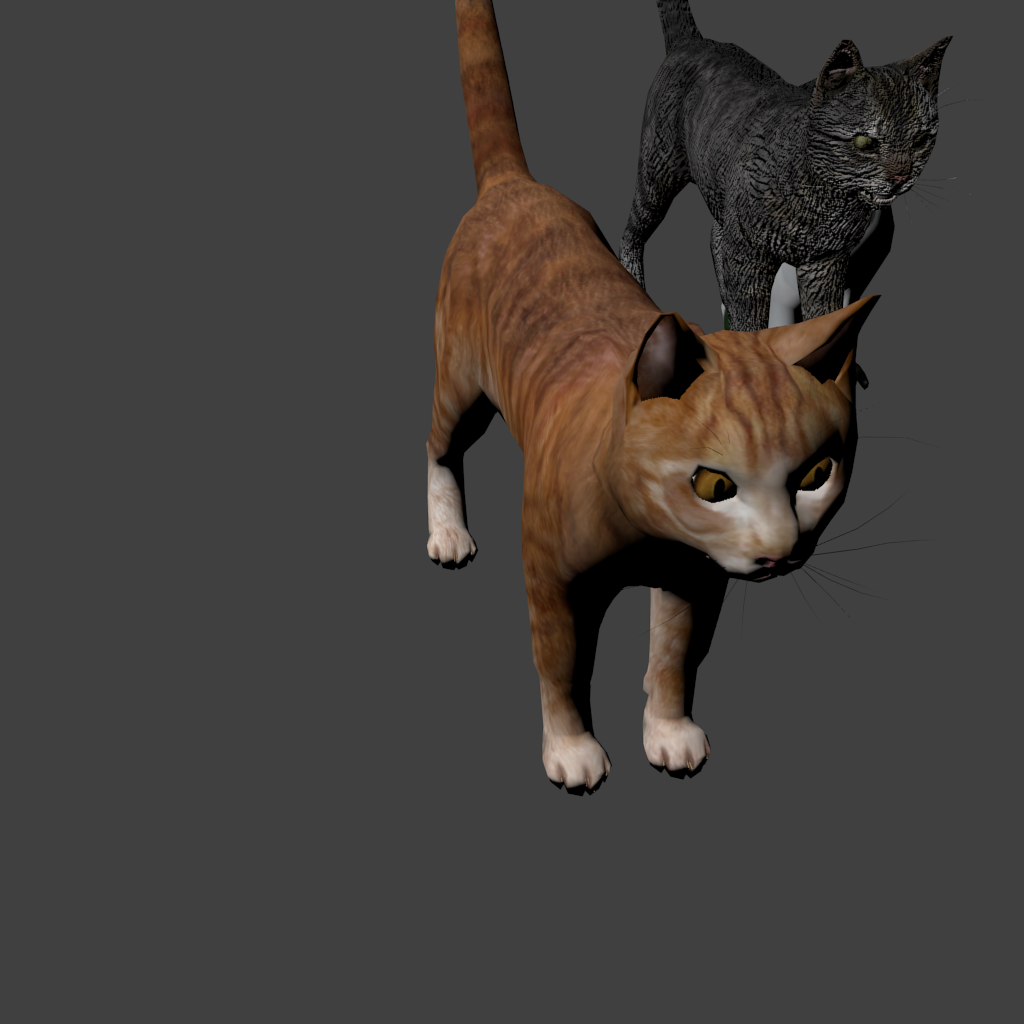Cat: (426, 0, 523, 797)
